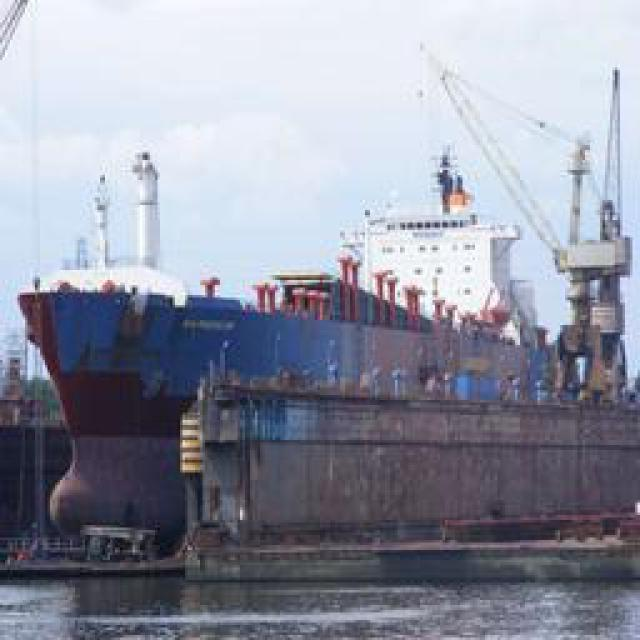Ship: (30, 45, 615, 560)
